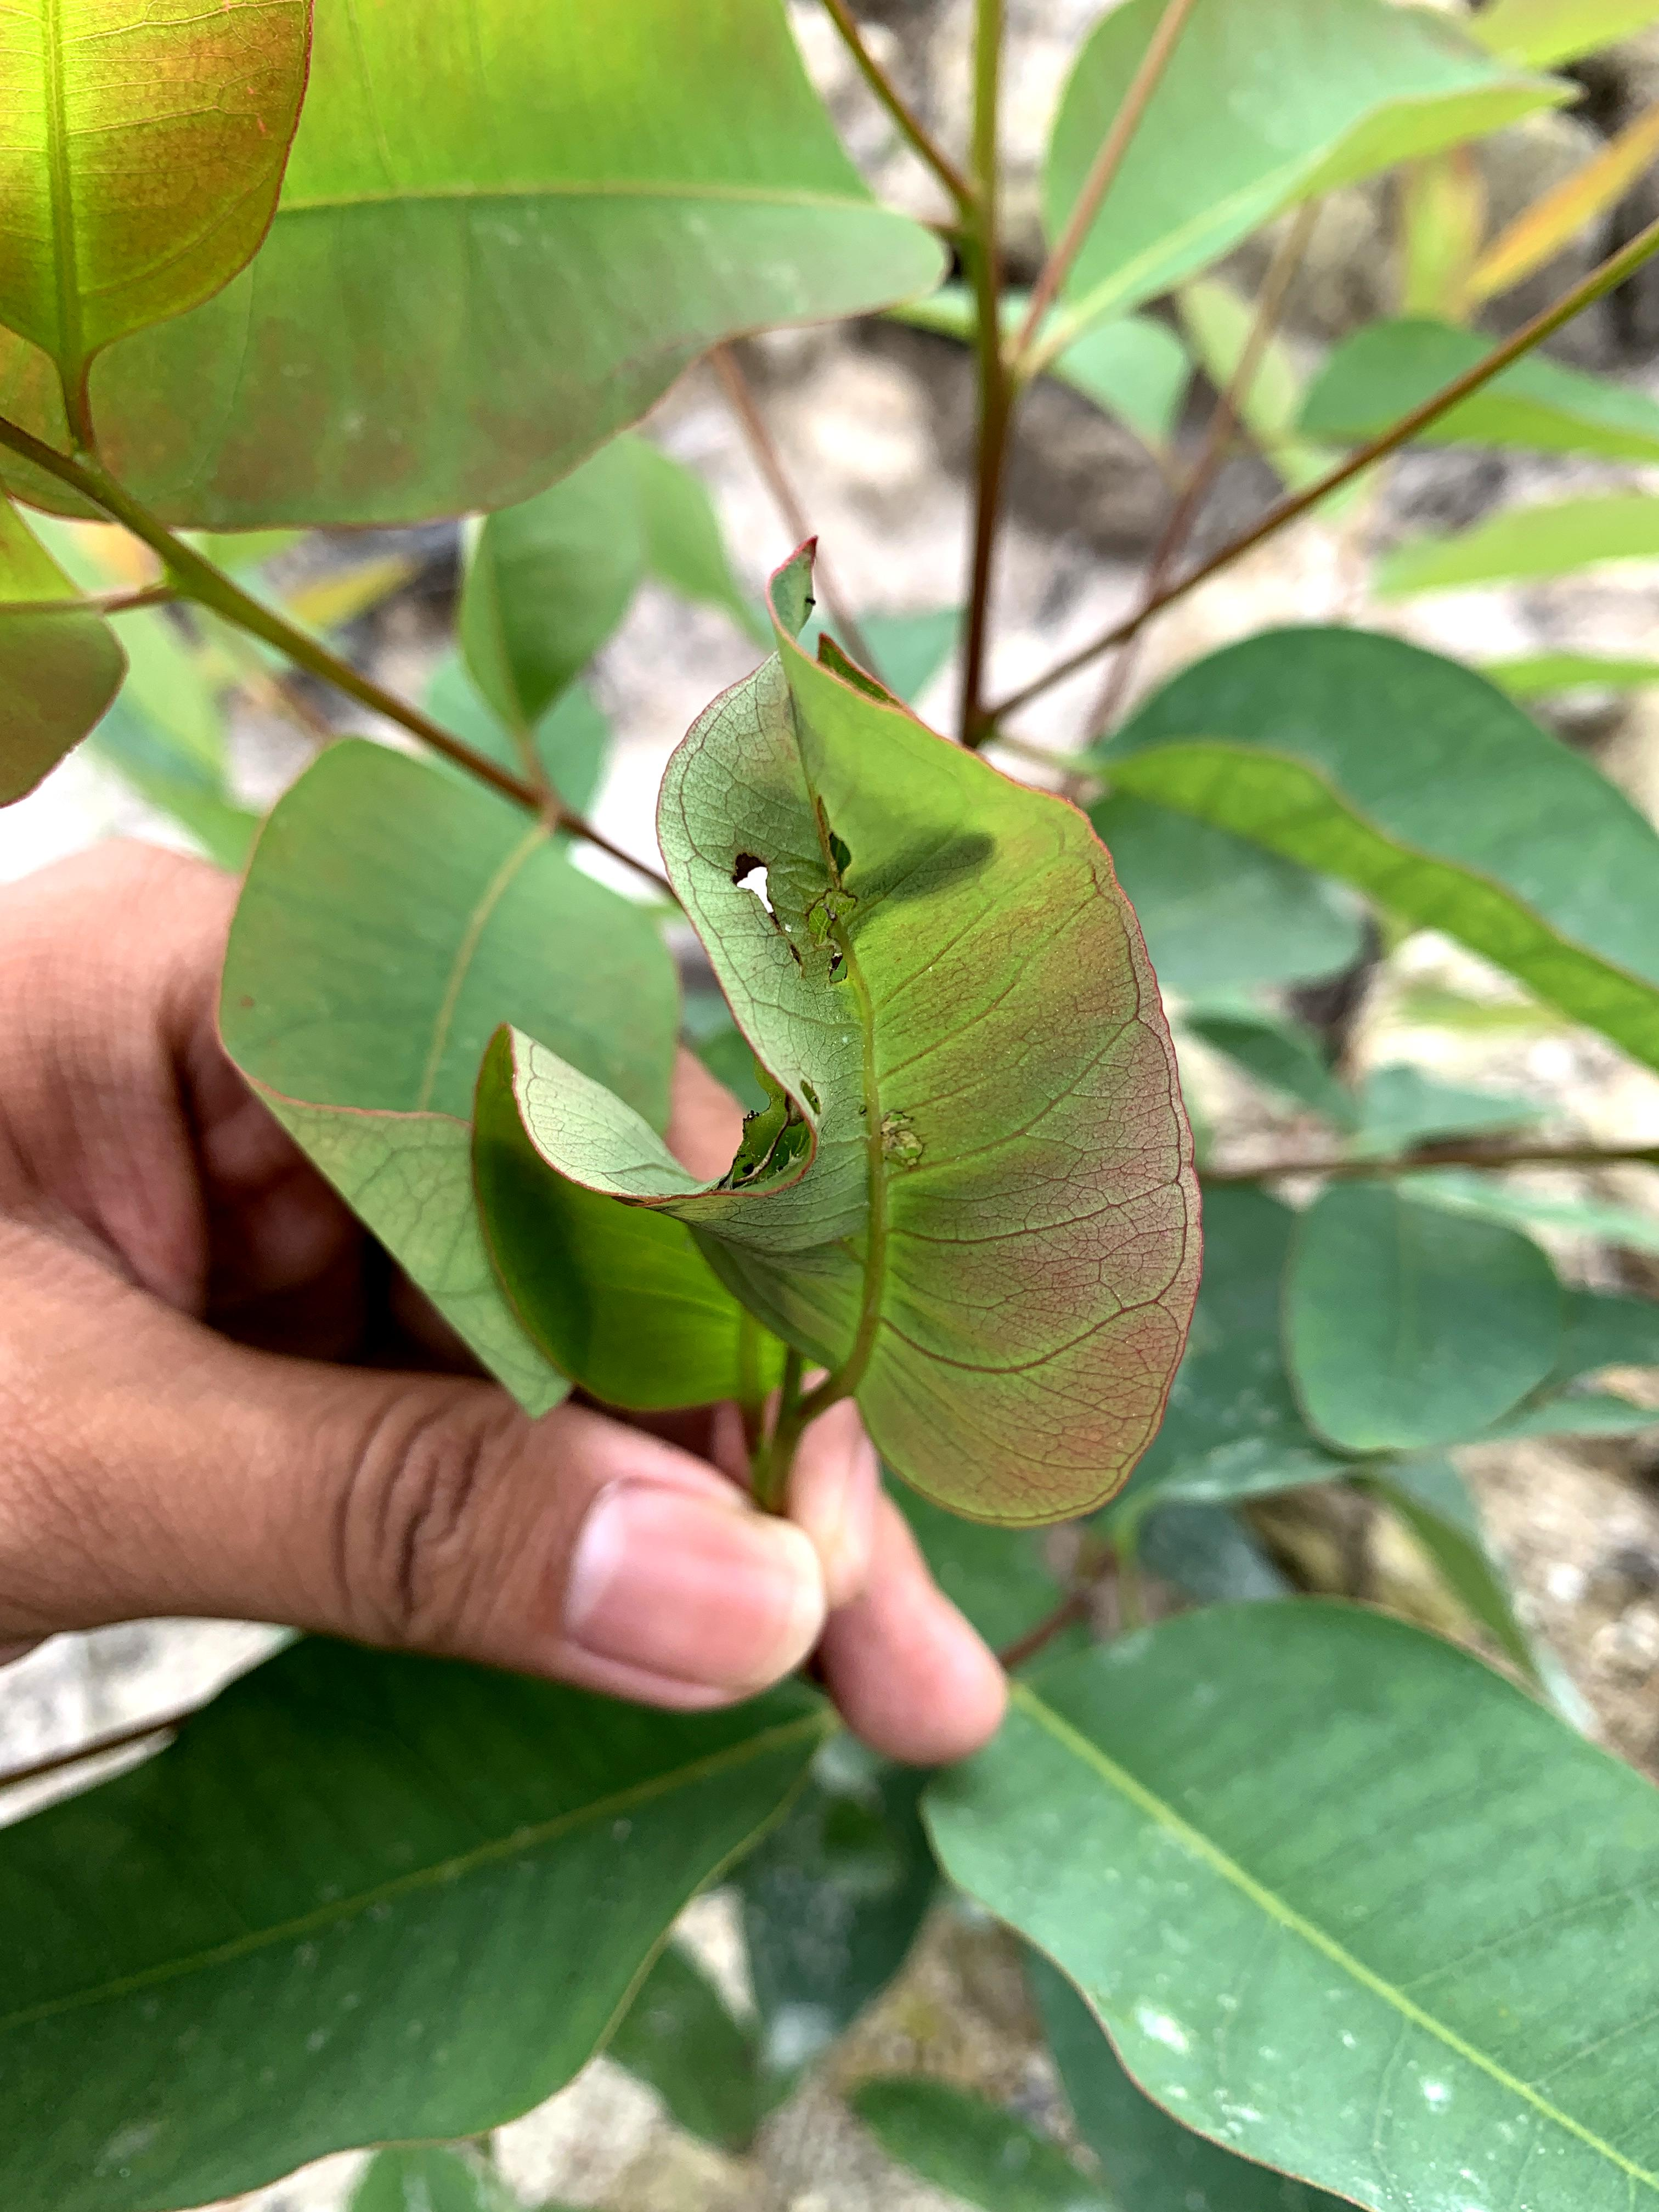Leaf Roller - Leaf: (420, 571, 1225, 1534)
